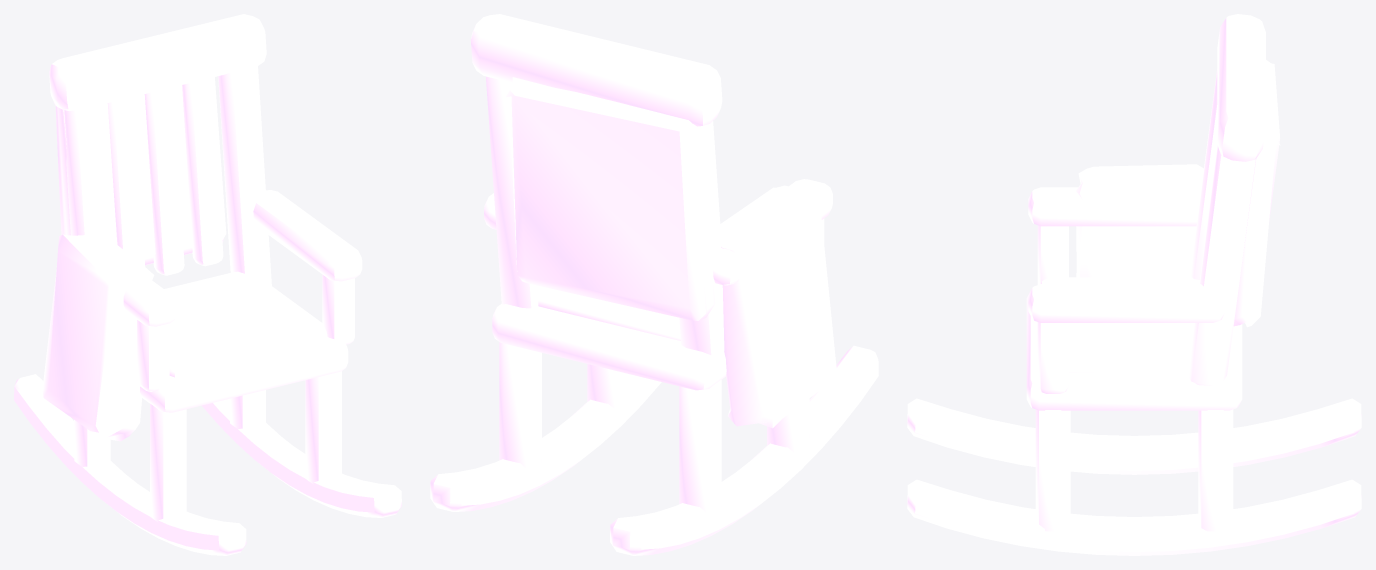
The model's file is rocking_chair.gltf.
The picture shows the model from 3 angles, left to right: view 1: azimuth 30°, elevation 25°; view 2: azimuth 150°, elevation 25°; view 3: azimuth 270°, elevation 25°; orthographic projection. The views are drawn at different scales.
Parts seen in each view (by area): view 1: HAUNT_rocker; view 2: HAUNT_rocker; view 3: HAUNT_rocker.
Boxes of the visible parts, left/top/right/bottom form: HAUNT_rocker: left=14, top=14, right=401, bottom=555; HAUNT_rocker: left=430, top=14, right=878, bottom=555; HAUNT_rocker: left=907, top=14, right=1361, bottom=555.
Size of what is drawn, in the model's own units: 0.8273 by 1.35 by 1.23.
